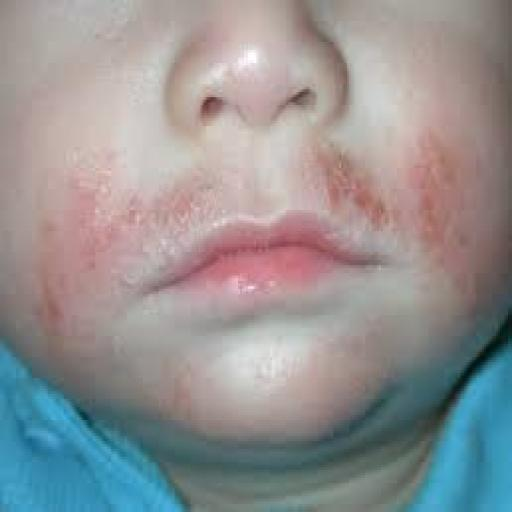Skin_Lesion: (159, 160, 212, 230), (420, 139, 452, 244), (318, 160, 374, 210), (70, 176, 114, 218), (42, 278, 65, 332), (79, 227, 109, 267), (126, 191, 144, 232)
